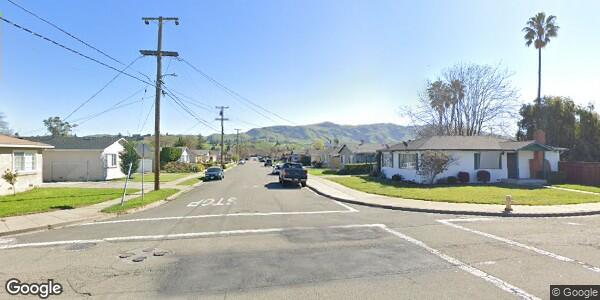Wood_Pole: (136, 15, 182, 188), (211, 104, 231, 164)
